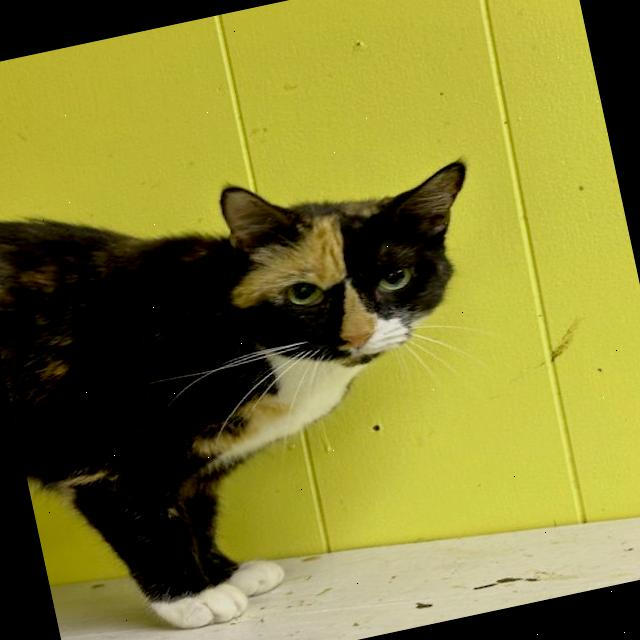calico_cat: (168, 127, 522, 440)
